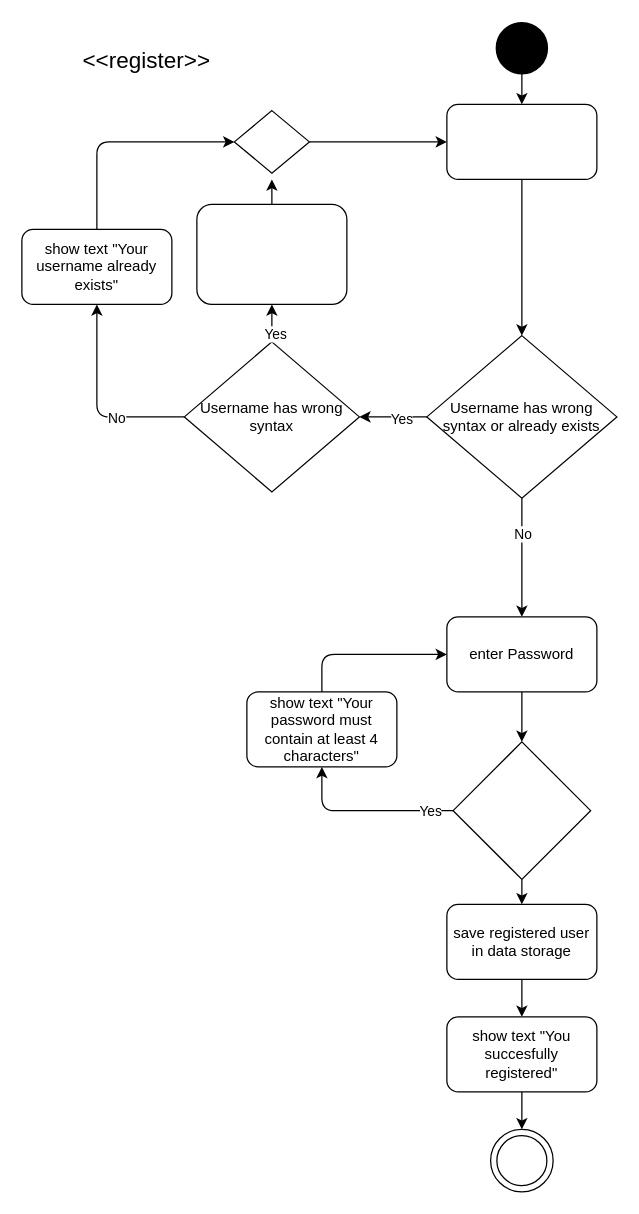
Image size: 639x1214. Some labels were removed from this diagram. Here are the shapes that lost their labels. From the top down, the centre of each, then its label:
the point at 521,141: enter Username
the point at 271,253: show text "Your username must be alphanumerical and contain 4 - 15 characters"
the point at 521,810: Password has wrong syntax
